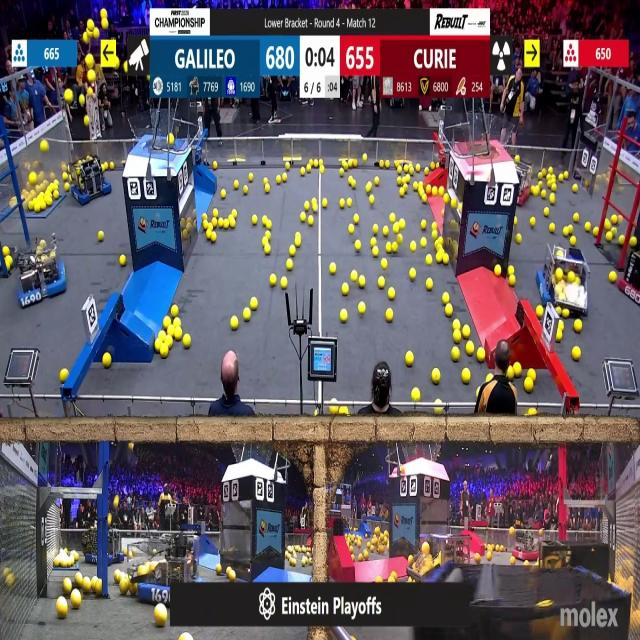ball_airborne: (65, 90, 74, 104), (40, 140, 49, 152), (87, 56, 95, 69), (30, 172, 37, 185), (89, 70, 96, 82), (88, 20, 95, 32), (82, 32, 88, 44), (94, 30, 101, 40), (122, 63, 128, 74), (83, 115, 89, 125), (102, 20, 108, 30), (108, 514, 112, 528), (113, 496, 118, 507), (89, 89, 95, 98), (101, 8, 107, 17), (169, 136, 174, 145), (79, 96, 84, 105)
ball_ground: (156, 607, 169, 628), (58, 598, 69, 618), (71, 592, 82, 609), (81, 576, 91, 592), (94, 580, 103, 597), (461, 370, 470, 384), (515, 362, 523, 377), (119, 581, 127, 596), (103, 353, 111, 367), (478, 348, 486, 362), (250, 296, 258, 310), (406, 352, 414, 366), (465, 342, 473, 356), (525, 379, 533, 393), (572, 347, 580, 361), (64, 580, 72, 594), (182, 336, 190, 349), (452, 348, 460, 361), (412, 388, 420, 401), (61, 370, 69, 383), (4, 256, 12, 269), (432, 370, 439, 384), (386, 310, 394, 322), (608, 272, 616, 284), (573, 320, 581, 332), (171, 306, 179, 318), (446, 306, 454, 318), (454, 332, 462, 344), (342, 283, 350, 295), (506, 366, 514, 378), (229, 569, 237, 581), (462, 325, 469, 338), (244, 309, 251, 322), (232, 316, 239, 329), (341, 310, 348, 323), (494, 267, 502, 278), (527, 367, 535, 378), (164, 317, 172, 328), (174, 328, 182, 339), (28, 201, 36, 212), (388, 288, 395, 300), (630, 238, 638, 248), (426, 279, 433, 290), (281, 278, 288, 289), (444, 292, 451, 303), (510, 276, 517, 287), (162, 347, 169, 358), (114, 570, 121, 581), (329, 264, 335, 276), (119, 254, 125, 266), (358, 276, 364, 288), (350, 272, 358, 281), (271, 275, 277, 287), (154, 341, 160, 353), (294, 236, 300, 248), (379, 278, 386, 288), (411, 242, 418, 252), (507, 267, 514, 277), (420, 238, 427, 248), (605, 232, 612, 242), (3, 246, 10, 256), (435, 253, 442, 263), (563, 226, 570, 236), (550, 196, 557, 206), (453, 320, 460, 330), (562, 309, 569, 319), (604, 220, 611, 230), (167, 338, 174, 348), (355, 241, 361, 252), (358, 304, 364, 315), (286, 261, 292, 272), (536, 307, 542, 318), (387, 213, 393, 224), (612, 225, 618, 236), (388, 574, 396, 582), (530, 186, 538, 194), (426, 255, 433, 264), (539, 188, 546, 197), (173, 318, 180, 327), (168, 326, 175, 335), (433, 241, 440, 250), (99, 232, 105, 242), (411, 270, 417, 280), (570, 237, 576, 247), (444, 254, 450, 264), (266, 245, 272, 255), (557, 333, 563, 343), (308, 215, 314, 225), (289, 246, 295, 256), (517, 234, 523, 244), (371, 224, 377, 234), (371, 247, 377, 257), (348, 223, 354, 233), (383, 225, 389, 235), (392, 243, 398, 253), (382, 260, 388, 270), (573, 213, 579, 223), (386, 243, 392, 253), (365, 182, 371, 192), (452, 199, 458, 209), (76, 573, 82, 583), (420, 220, 427, 228), (528, 410, 536, 417), (434, 409, 441, 417), (109, 163, 116, 171), (330, 409, 337, 417), (205, 232, 212, 240), (322, 200, 328, 209), (530, 217, 536, 226), (341, 200, 347, 209), (370, 238, 376, 247), (347, 199, 353, 208), (243, 184, 249, 193), (299, 213, 305, 222), (220, 188, 226, 197), (550, 223, 556, 232), (234, 180, 240, 189), (223, 219, 229, 228), (375, 177, 381, 186), (231, 219, 237, 228), (611, 215, 617, 224), (392, 223, 398, 232), (620, 237, 626, 246), (594, 229, 600, 238), (212, 217, 218, 226), (312, 200, 318, 209), (432, 187, 438, 196), (267, 220, 273, 229), (474, 554, 480, 563), (426, 184, 432, 193), (397, 235, 403, 244), (161, 329, 167, 338), (556, 307, 562, 316), (252, 215, 257, 225), (445, 193, 450, 203), (218, 218, 223, 228), (180, 635, 190, 640), (586, 222, 592, 230), (511, 557, 517, 565), (282, 174, 288, 182), (212, 209, 218, 217), (413, 182, 419, 190), (396, 177, 402, 185), (266, 232, 272, 240), (552, 183, 558, 191), (537, 172, 543, 180), (404, 179, 410, 187), (616, 216, 622, 224), (358, 554, 364, 562), (343, 409, 349, 417), (557, 249, 563, 257), (354, 215, 359, 224), (212, 234, 217, 243), (543, 208, 548, 217), (216, 565, 221, 574), (422, 195, 427, 204), (559, 321, 564, 330), (399, 219, 404, 228), (368, 194, 373, 203), (440, 186, 445, 195), (564, 172, 569, 181), (405, 164, 410, 173), (410, 167, 415, 176), (377, 575, 383, 582), (284, 164, 290, 171), (380, 162, 386, 169), (396, 168, 402, 175), (233, 210, 238, 218), (572, 184, 577, 192), (266, 184, 271, 192), (277, 176, 282, 184), (299, 168, 304, 176), (559, 174, 564, 182), (341, 169, 346, 177), (204, 220, 209, 228), (487, 374, 492, 382), (385, 162, 390, 170), (362, 153, 367, 161), (430, 164, 435, 172), (353, 160, 358, 168), (74, 554, 79, 562), (306, 202, 310, 211), (435, 398, 441, 404), (416, 166, 421, 173), (349, 177, 354, 184), (525, 560, 530, 567), (351, 555, 356, 562), (440, 238, 445, 245), (249, 174, 253, 182), (515, 217, 519, 225), (214, 160, 218, 168), (432, 232, 436, 240), (399, 188, 403, 196), (488, 553, 492, 561), (425, 168, 429, 176), (550, 166, 554, 174), (308, 166, 312, 174), (432, 222, 436, 229), (320, 168, 324, 175), (265, 178, 269, 185), (66, 183, 70, 190), (314, 412, 318, 418)
goal: (460, 118, 520, 158), (129, 115, 188, 152)
robot_blue: (126, 540, 203, 606), (537, 250, 591, 316), (15, 239, 67, 305), (408, 534, 454, 584), (68, 155, 112, 205), (82, 526, 125, 563)
robot_red: (501, 160, 531, 209), (619, 240, 640, 307), (509, 522, 541, 560)
